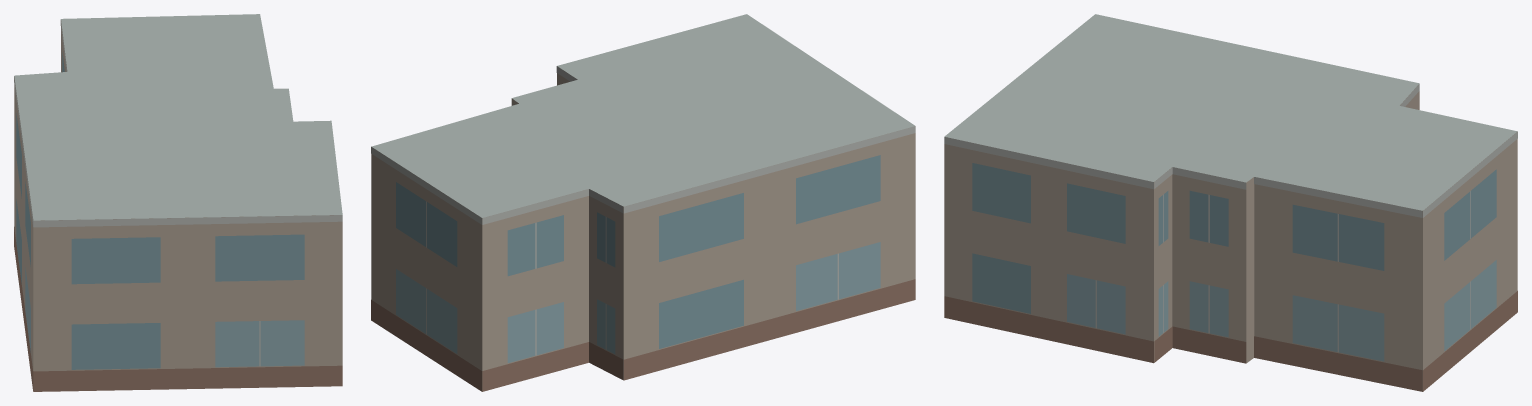
Rendered from survey-upis-32889999.glb.
3 renders of one model, left to right at view 1: azimuth 30°, elevation 25°; view 2: azimuth 150°, elevation 25°; view 3: azimuth 270°, elevation 25°, orthographic. The views are drawn at different scales.
Parts seen in each view (by area): view 1: survey-upis-32889999.tmp; view 2: survey-upis-32889999.tmp; view 3: survey-upis-32889999.tmp.
Boxes of the visible parts, <box> form: survey-upis-32889999.tmp: <box>14,14,342,391</box>; survey-upis-32889999.tmp: <box>371,14,915,391</box>; survey-upis-32889999.tmp: <box>944,14,1517,391</box>.
Bounding box in the file's own units: 14.23 × 6.1 × 17.52.
